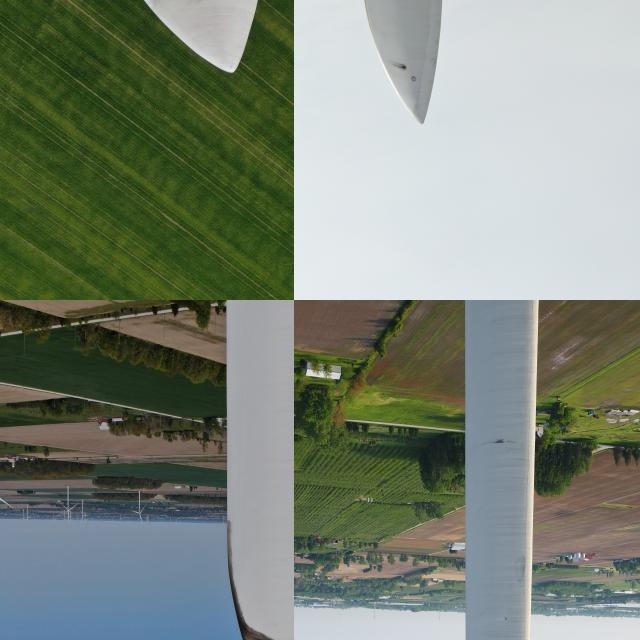damage: (230, 611, 283, 639), (401, 62, 406, 72)
